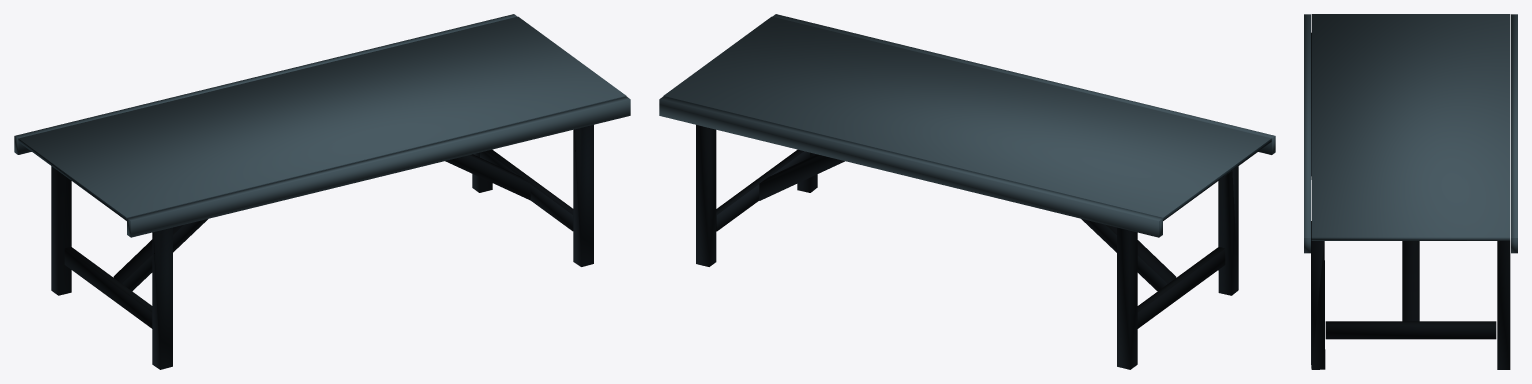
Rendered from furnishings-tables-worktable_v1.glb.
The picture shows the model from 3 angles, left to right: view 1: azimuth 30°, elevation 25°; view 2: azimuth 150°, elevation 25°; view 3: azimuth 270°, elevation 25°; orthographic projection. The views are drawn at different scales.
Parts seen in each view (by area): view 1: WorkTable.001; view 2: WorkTable.001; view 3: WorkTable.001.
Part boxes in pixels (bbox=[...]): WorkTable.001: bbox=[14, 14, 630, 369]; WorkTable.001: bbox=[659, 14, 1275, 369]; WorkTable.001: bbox=[1304, 14, 1517, 369].
Size of the model in its own units: 3.35 by 1.03 by 1.35.
